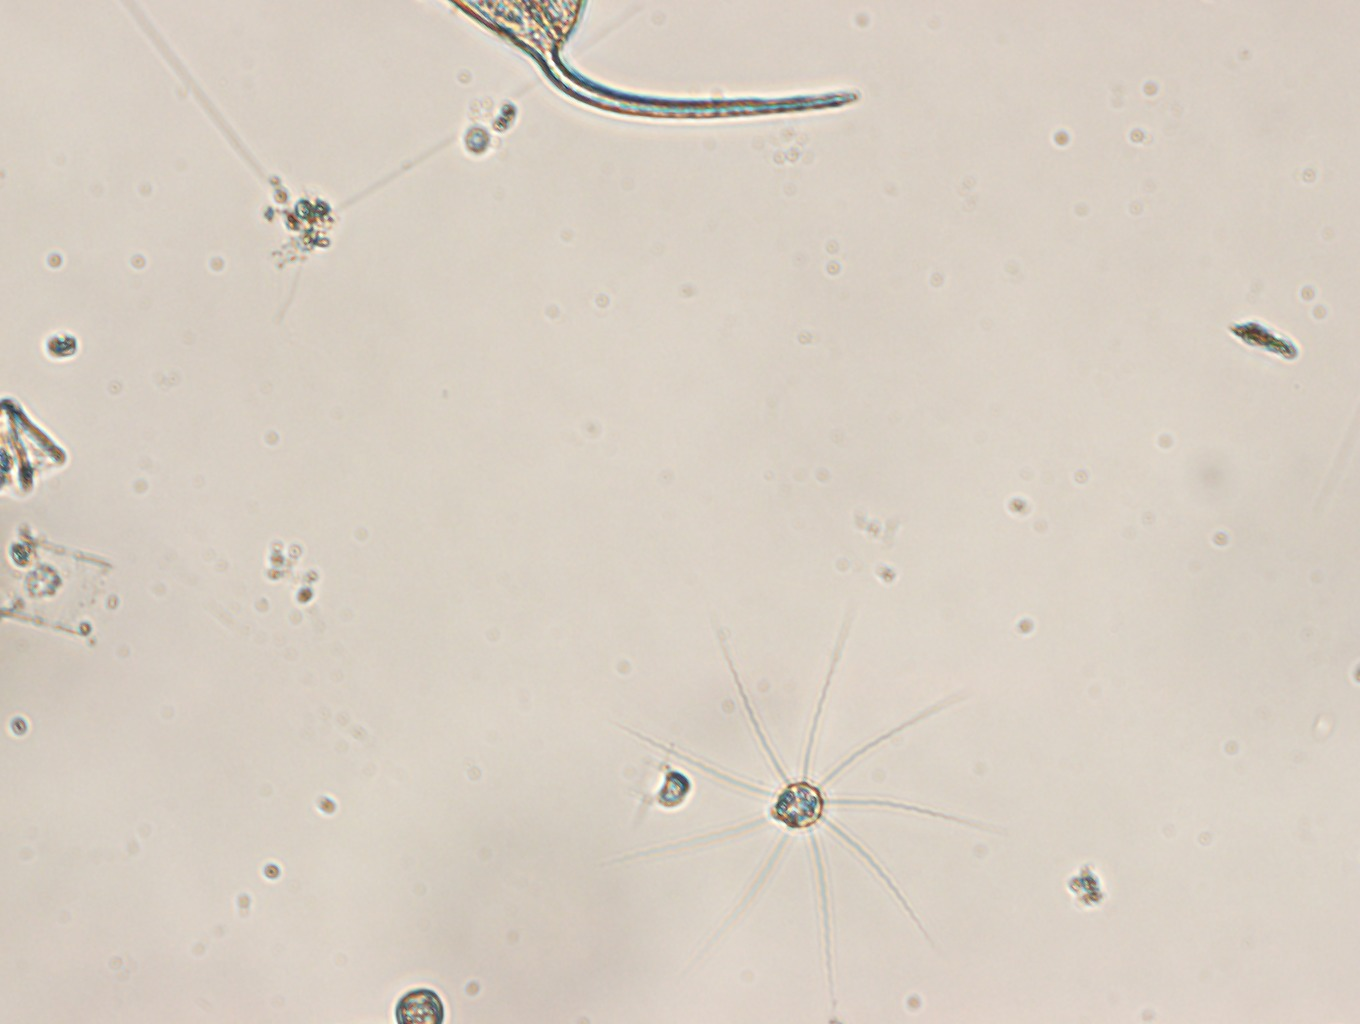bacteriastrum: (614, 618, 1000, 990)
